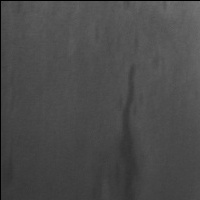inclusion: (113, 62, 145, 200), (2, 138, 19, 193), (89, 151, 107, 200)
